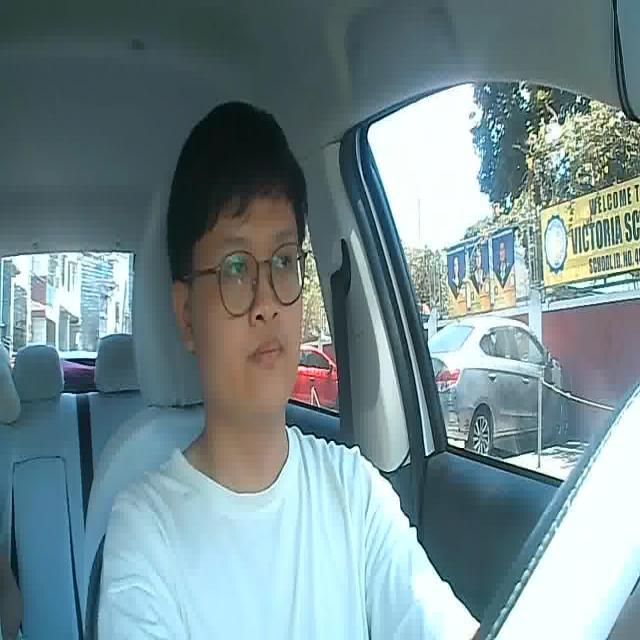Attentive: (163, 98, 312, 419)
Eye-Open: (222, 256, 255, 282), (272, 250, 294, 272)
Normal: (252, 334, 289, 370)
